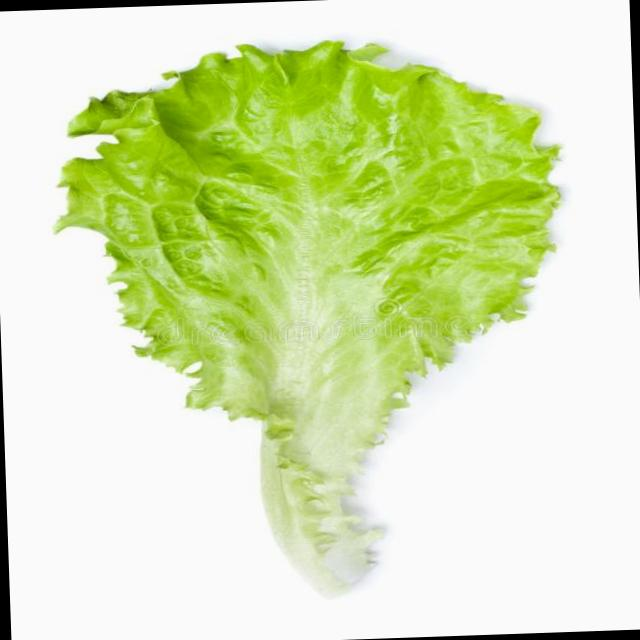Lettuce-Ready-to-Harvest: (51, 40, 561, 602)
